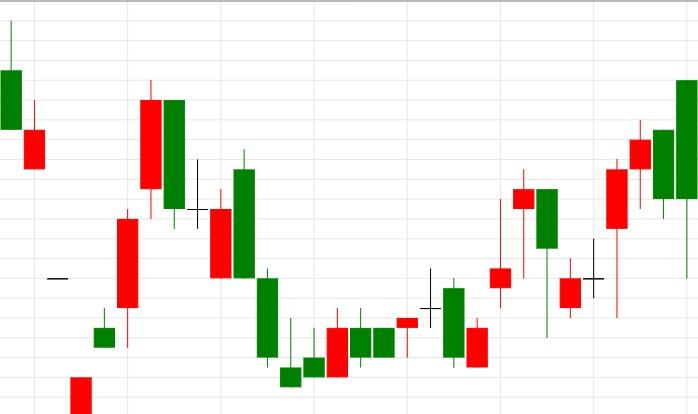inverse_hammer_rise: (164, 100, 301, 387)
